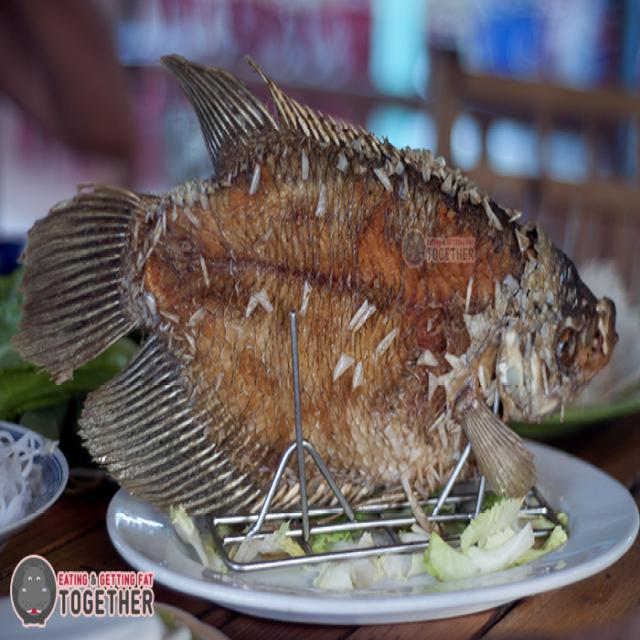Wet Waste: (44, 80, 617, 523)
